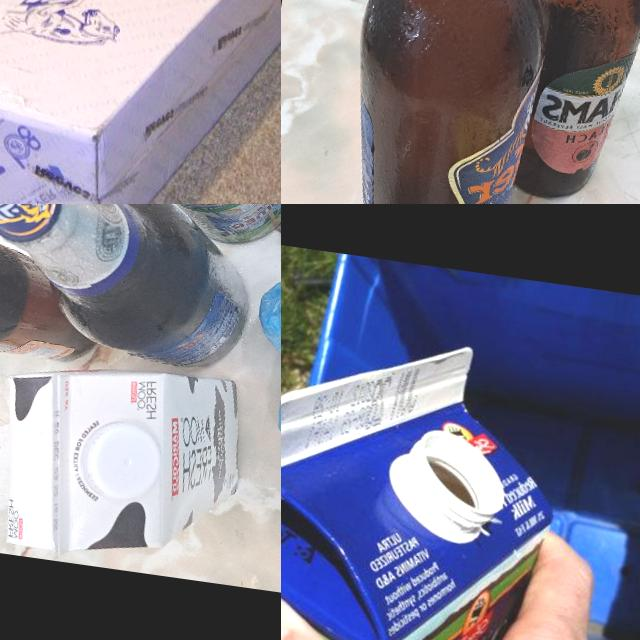caixinha: (281, 299, 573, 640), (0, 349, 253, 581)
garrafa de vidro: (0, 204, 262, 376), (327, 0, 544, 204), (507, 0, 640, 204), (0, 224, 106, 366)
lata: (131, 204, 281, 252)
papelão: (0, 0, 281, 204)
tampa plástica: (75, 416, 168, 506)
